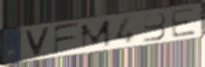4: (114, 16, 137, 45)
B: (143, 11, 168, 44)
E: (170, 6, 199, 39)
F: (53, 21, 81, 56)
M: (79, 18, 113, 51)
V: (23, 26, 52, 57)
